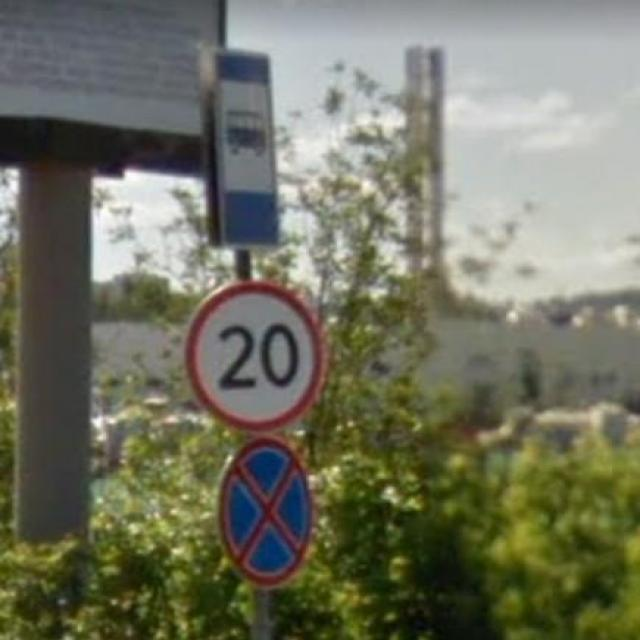forb_speed_over_20: (184, 280, 327, 436)
